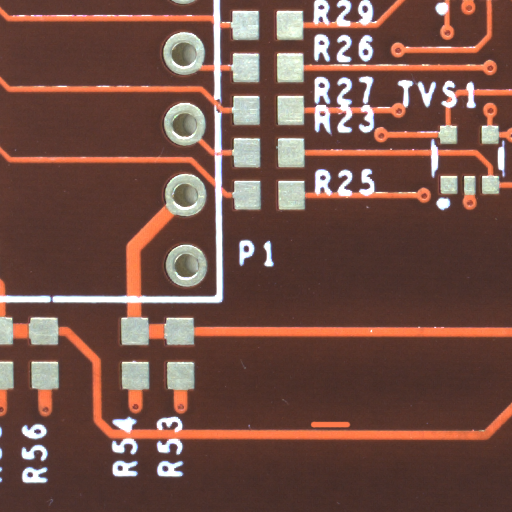Spurious_copper: (328, 424, 373, 433)
